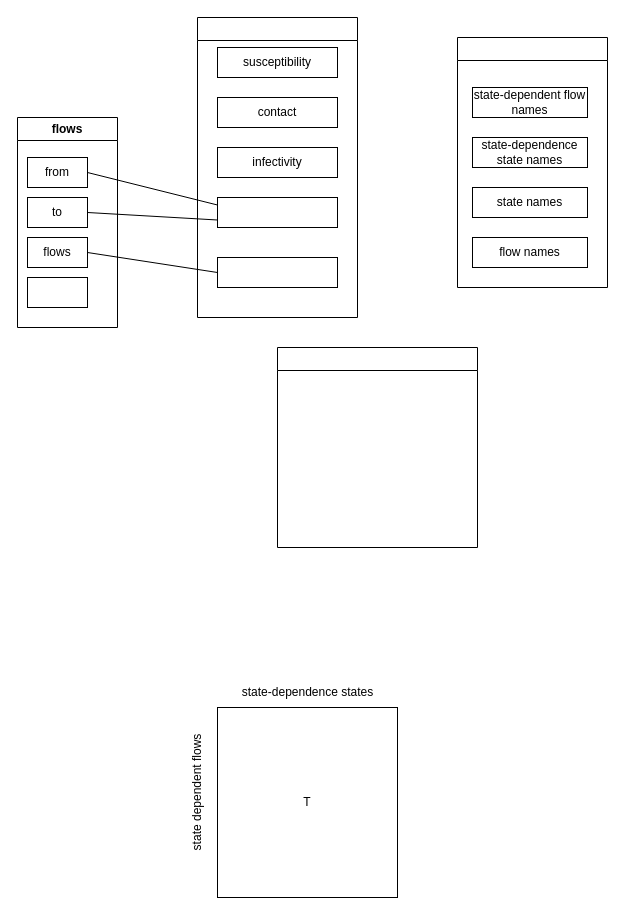
Some shapes in this 625 by 915 pixel diagram are drawn without their labels. The box of each missing label's shape, as (x1, y1, x2, y2) in pixels:
derivations: (276, 346, 478, 548)
flow: (216, 256, 338, 288)
settings: (456, 36, 608, 288)
state: (216, 196, 338, 228)
type: (26, 276, 88, 308)
variables: (196, 16, 358, 318)
